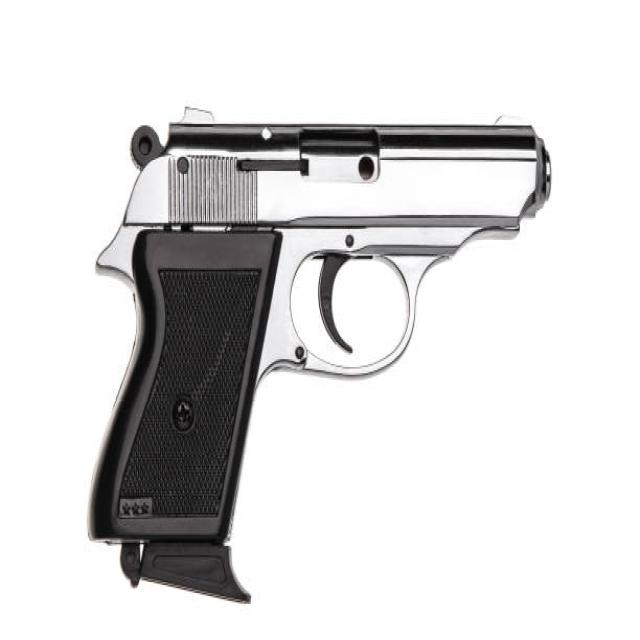pistol: (84, 102, 564, 615)
